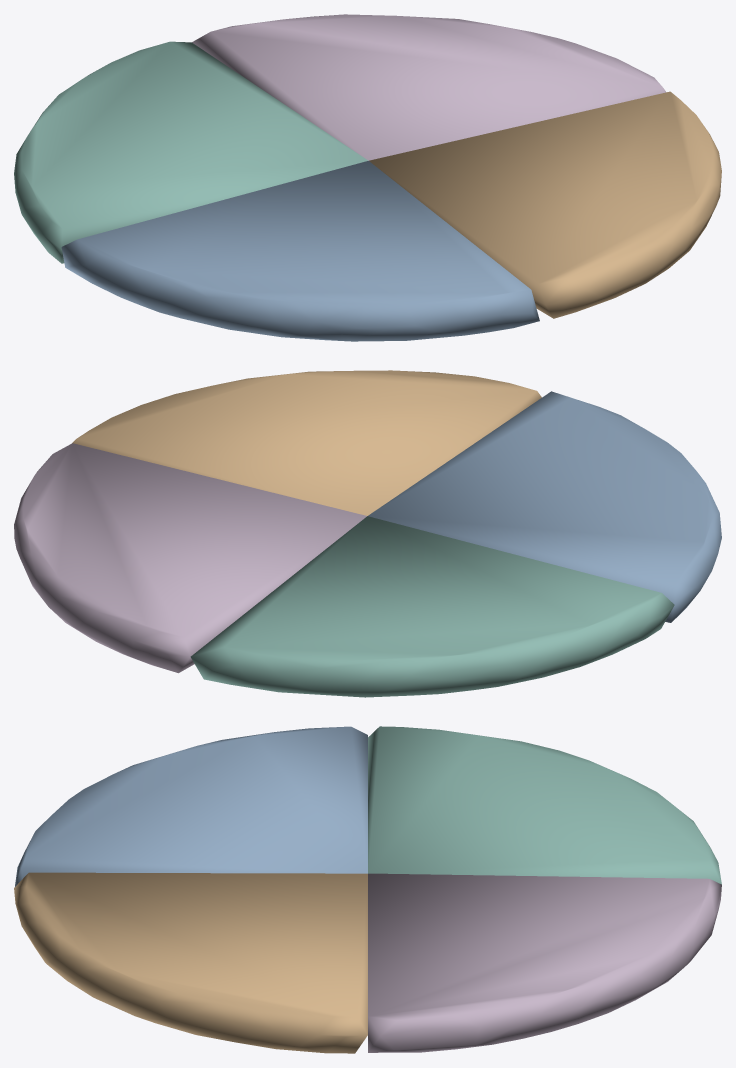
3 renders of one model, top to bottom at view 1: azimuth 30°, elevation 25°; view 2: azimuth 150°, elevation 25°; view 3: azimuth 270°, elevation 25°, orthographic.
Size of the model in its own units: 2 by 0.1159 by 2.
